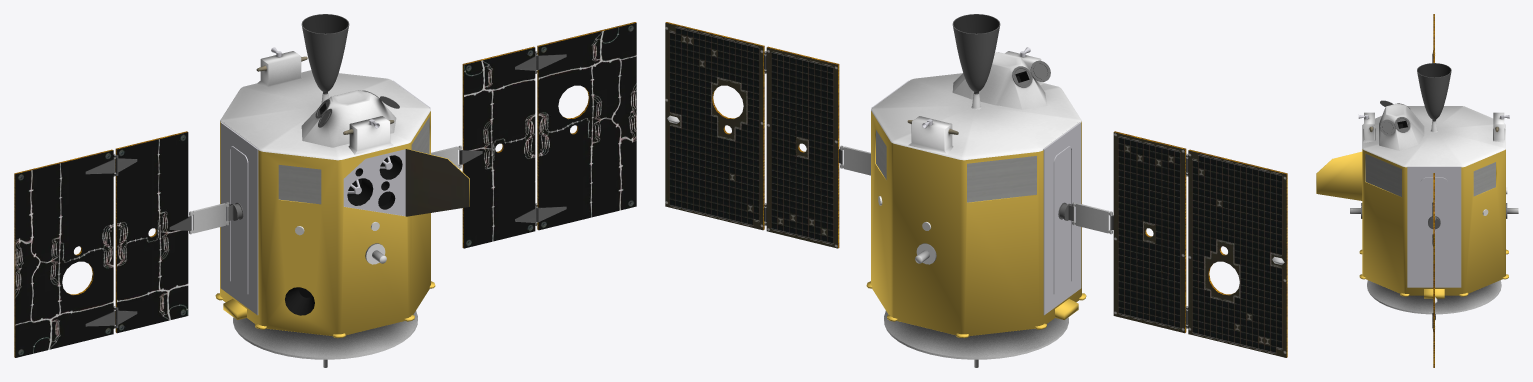
Rendered from clementine.gltf.
3 views of the same model, side by side, from view 1: azimuth 30°, elevation 25°; view 2: azimuth 150°, elevation 25°; view 3: azimuth 270°, elevation 25° (orthographic). The views are drawn at different scales.
Visible parts, largest first — view 1: tex_01, foil_gold, foil_white, AO_dish, AO_hinges; view 2: shiny_panel, foil_gold, tex_01, foil_white, AO_dish, AO_hinges; view 3: foil_gold, tex_01, foil_white, AO_dish.
Boxes of the visible parts, x1,y1,x2,y2 form: tex_01: (14,14,636,357); foil_gold: (215,111,469,338); foil_white: (220,51,430,160); AO_dish: (233,243,417,367); AO_hinges: (85,51,566,328); shiny_panel: (665,23,1286,357); foil_gold: (866,111,1086,338); tex_01: (665,14,1287,357); foil_white: (871,51,1081,160); AO_dish: (884,243,1068,367); AO_hinges: (764,51,1188,328); foil_gold: (1316,149,1508,298); tex_01: (1358,14,1509,367); foil_white: (1362,103,1505,167); AO_dish: (1350,203,1518,319).
Size of the model in its own units: 4.13 by 2.18 by 1.6.
Materials: 8 (6 with a texture image).
